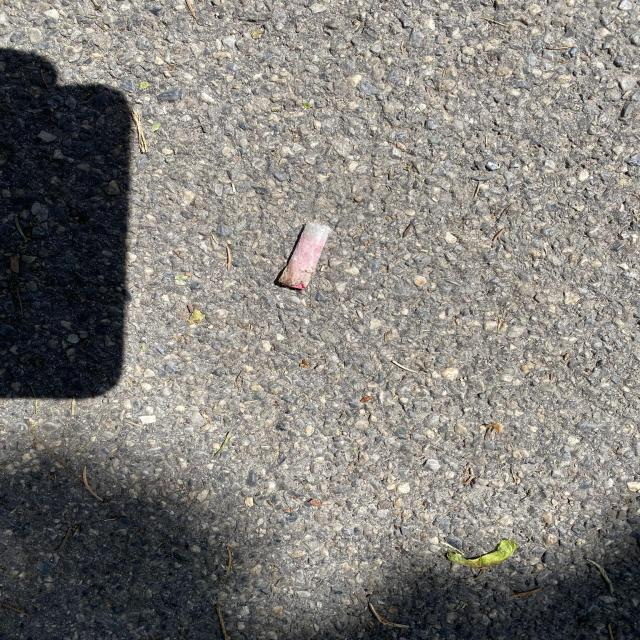other waste: (276, 220, 333, 290)
